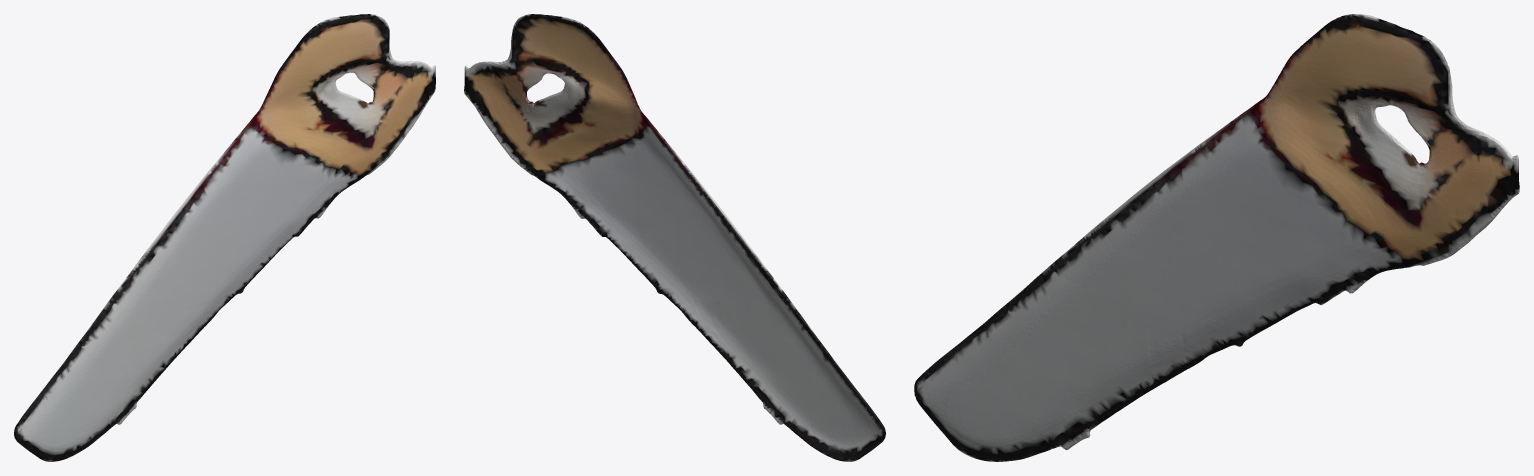
Rendered from saw.glb.
The picture shows the model from 3 angles, left to right: view 1: azimuth 30°, elevation 25°; view 2: azimuth 150°, elevation 25°; view 3: azimuth 330°, elevation 25°; orthographic projection. The views are drawn at different scales.
Visible parts, largest first — view 1: geometry_0; view 2: geometry_0; view 3: geometry_0.
Boxes of the visible parts, bbox=[...] form: geometry_0: bbox=[14, 14, 435, 461]; geometry_0: bbox=[464, 14, 885, 461]; geometry_0: bbox=[914, 14, 1519, 461].
Size of the model in its own units: 0.8797 by 0.75 by 0.0269.
